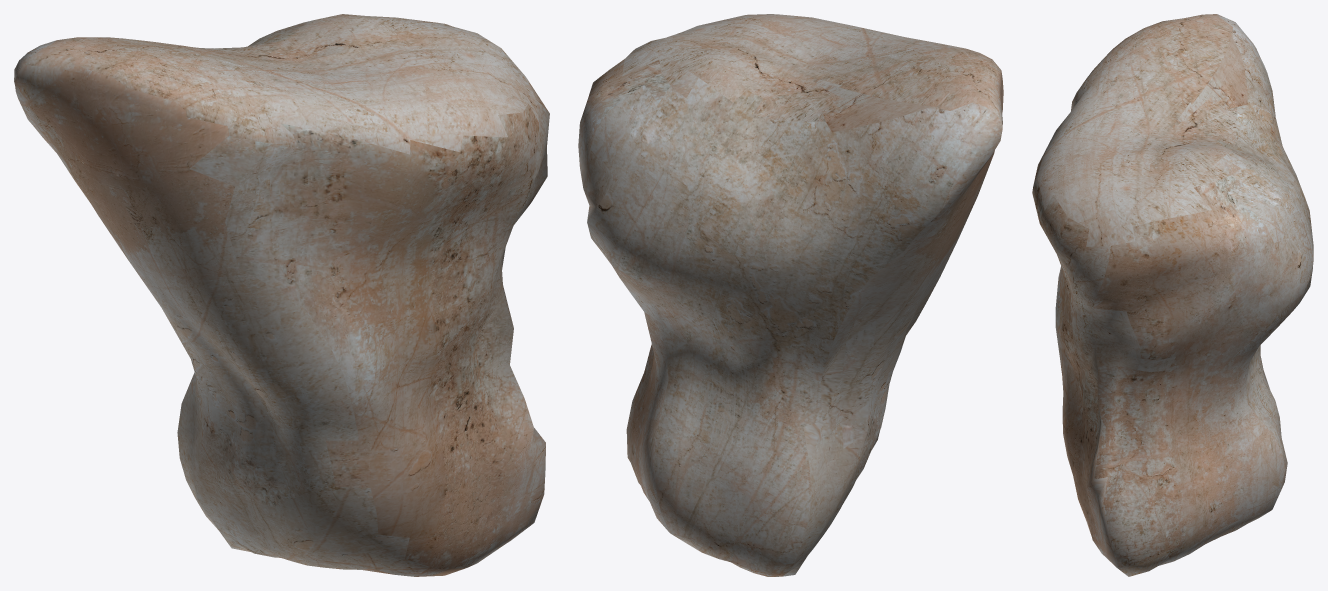
The model's file is sANDmOUNTAINS 4.fbx.
3 renders of one model, left to right at view 1: azimuth 30°, elevation 25°; view 2: azimuth 150°, elevation 25°; view 3: azimuth 270°, elevation 25°, orthographic. The views are drawn at different scales.
Visible parts, largest first — view 1: Landscape.005; view 2: Landscape.005; view 3: Landscape.005.
Part boxes in pixels (bbox=[...]): Landscape.005: bbox=[14, 14, 549, 576]; Landscape.005: bbox=[578, 14, 1003, 576]; Landscape.005: bbox=[1032, 14, 1313, 576].
Bounding box in the file's own units: 357 × 420 × 249.
